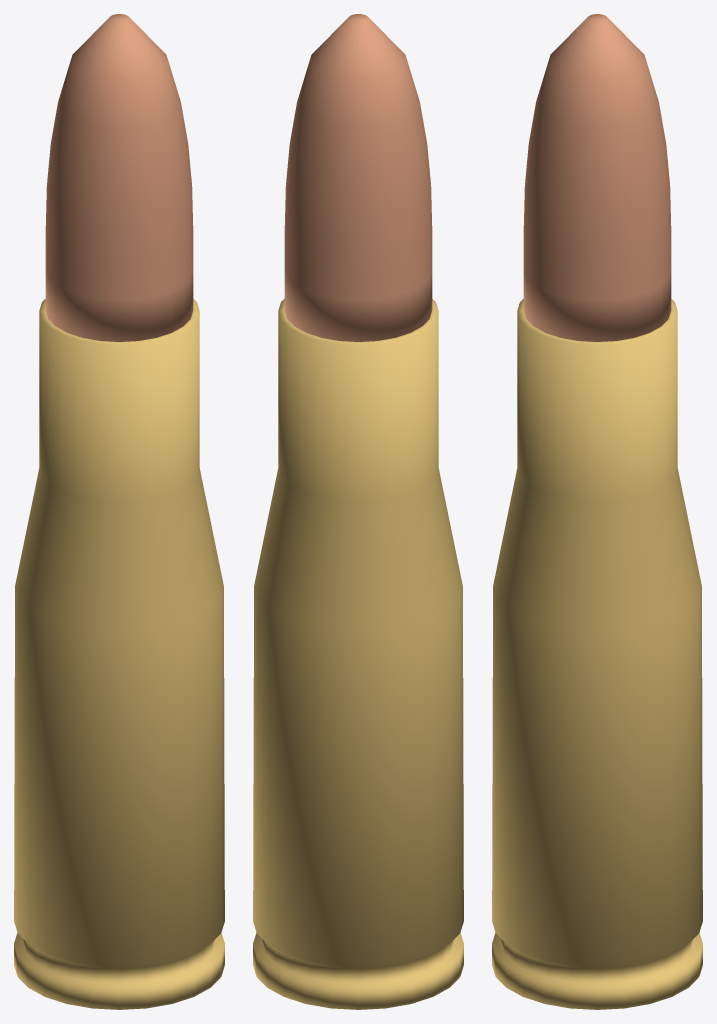
File: 762x39_std.glb
3 views of the same model, side by side, from view 1: azimuth 30°, elevation 25°; view 2: azimuth 150°, elevation 25°; view 3: azimuth 270°, elevation 25° (orthographic).
Visible parts, largest first — view 1: vaina, bala; view 2: vaina, bala; view 3: vaina, bala.
Boxes of the visible parts, bbox=[...] form: vaina: bbox=[14, 299, 224, 1009]; bala: bbox=[45, 14, 193, 341]; vaina: bbox=[253, 299, 463, 1009]; bala: bbox=[284, 14, 432, 341]; vaina: bbox=[492, 299, 702, 1009]; bala: bbox=[523, 14, 671, 341].
Bounding box in the file's own units: 0.0113 × 0.056 × 0.0113.
